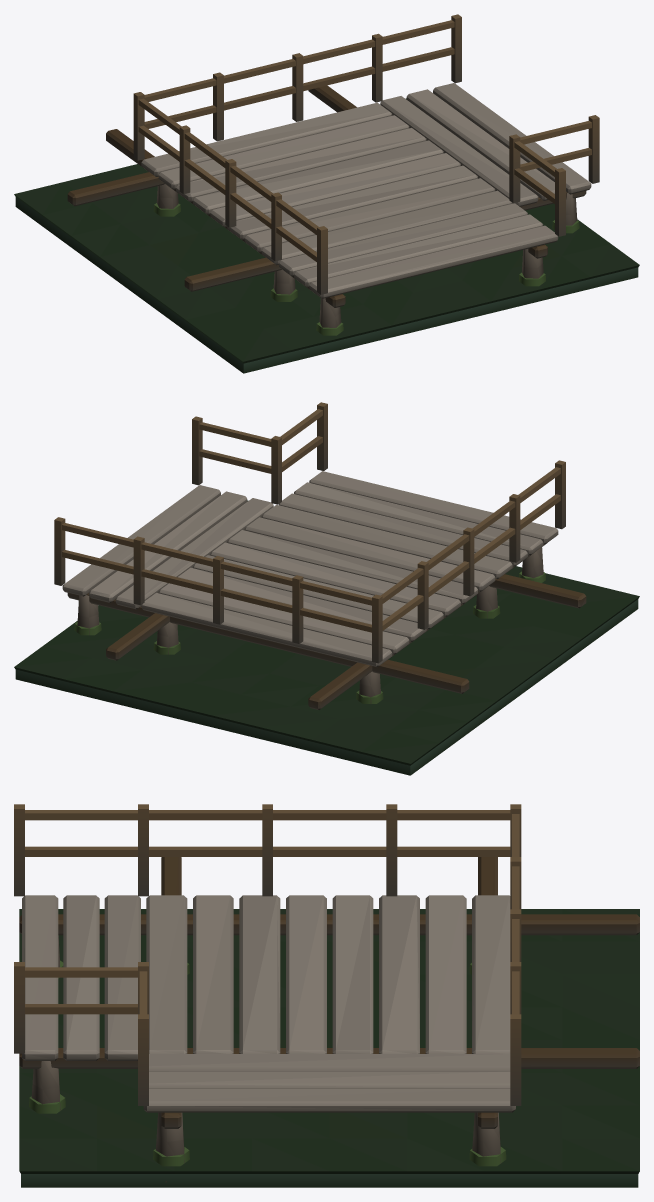
Rendered from road-boardwalk-corner.glb.
The picture shows the model from 3 angles, top to bottom: view 1: azimuth 30°, elevation 25°; view 2: azimuth 150°, elevation 25°; view 3: azimuth 270°, elevation 25°; orthographic projection. The views are drawn at different scales.
Visible parts, largest first — view 1: road_boardwalk_corner; view 2: road_boardwalk_corner; view 3: road_boardwalk_corner.
Part boxes in pixels (box(x1,y1,x2,y2)): road_boardwalk_corner: box(14, 14, 639, 373); road_boardwalk_corner: box(14, 402, 639, 775); road_boardwalk_corner: box(14, 804, 639, 1187).
Bounding box in the file's own units: 4.03 × 1.25 × 4.03.
